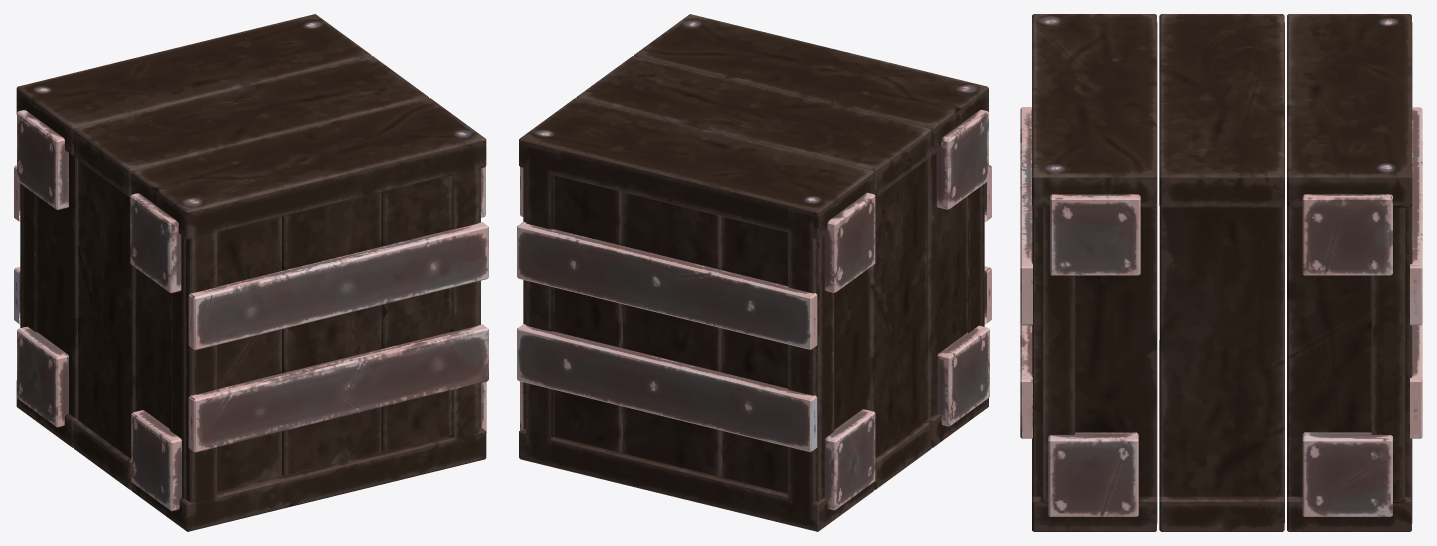
3 renders of one model, left to right at view 1: azimuth 30°, elevation 25°; view 2: azimuth 150°, elevation 25°; view 3: azimuth 270°, elevation 25°, orthographic. The views are drawn at different scales.
Parts seen in each view (by area): view 1: Cube.004, Cube.010, Cube.020, Cube.011, Cube.023, Cube.005, Tablones, Cube.014, Cube.027; view 2: Cube.004, Cube.014, Cube.027, Cube.011, Cube.023, Cube.005, Tablones, Cube.010, Cube.020; view 3: Tablones, Cube.004, Metales01, Cube.005, Cube.014, Cube.010, Cube.020, Cube.027.
Boxes of the visible parts, left/top/right/bottom form: Cube.004: left=16, top=14, right=486, bottom=239; Cube.010: left=170, top=168, right=480, bottom=499; Cube.020: left=188, top=222, right=488, bottom=452; Cube.011: left=20, top=153, right=217, bottom=503; Cube.023: left=17, top=110, right=181, bottom=511; Cube.005: left=16, top=380, right=486, bottom=531; Tablones: left=454, top=168, right=479, bottom=439; Cube.014: left=22, top=184, right=36, bottom=332; Cube.027: left=14, top=165, right=20, bottom=324; Cube.004: left=519, top=14, right=988, bottom=239; Cube.014: left=523, top=168, right=834, bottom=500; Cube.027: left=517, top=222, right=817, bottom=452; Cube.011: left=788, top=153, right=984, bottom=527; Cube.023: left=824, top=109, right=989, bottom=510; Cube.005: left=519, top=398, right=988, bottom=531; Tablones: left=526, top=145, right=551, bottom=463; Cube.010: left=968, top=185, right=982, bottom=333; Cube.020: left=984, top=165, right=991, bottom=324; Tablones: left=1032, top=164, right=1412, bottom=523; Cube.004: left=1032, top=14, right=1411, bottom=207; Metales01: left=1048, top=194, right=1392, bottom=516; Cube.005: left=1032, top=340, right=1411, bottom=531; Cube.014: left=1371, top=207, right=1405, bottom=499; Cube.010: left=1041, top=207, right=1074, bottom=499; Cube.020: left=1020, top=107, right=1032, bottom=438; Cube.027: left=1410, top=107, right=1422, bottom=438.
Bounding box in the file's own units: 1.03 × 1 × 1.03.
1 material, 1 textured.
